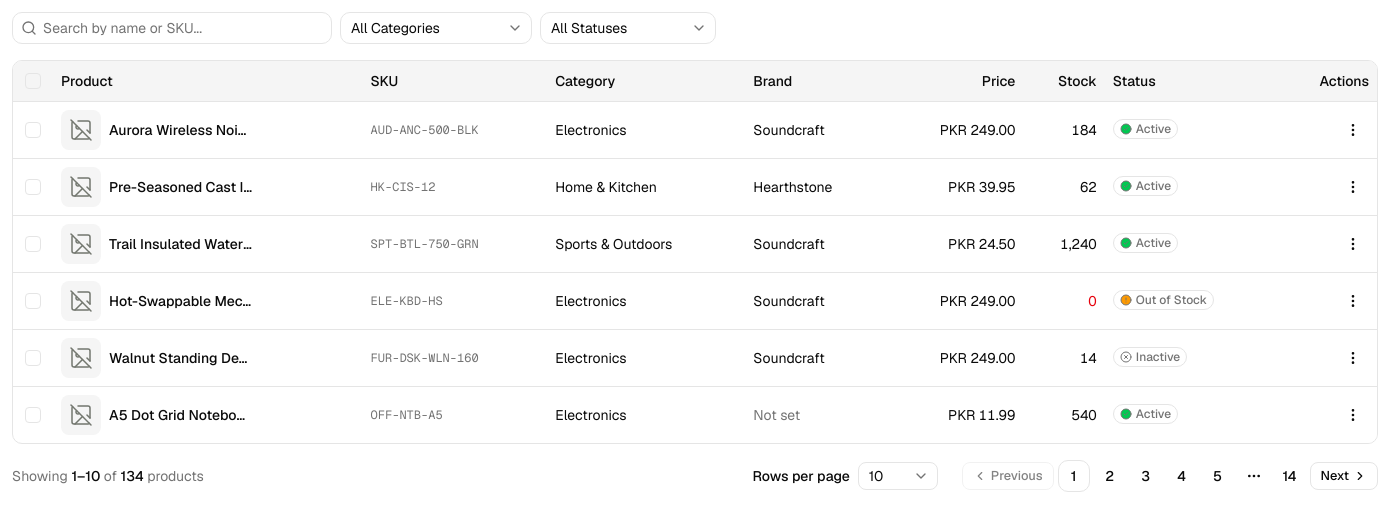
ProductsList search and filters › offers the categories the API returns and filters by the one chosen
The width and height of the screenshot is (1390, 509).
Expected: the text "Aurora Wireless Noise-Cancelling Headphones" is shown, [109, 120, 253, 140]
Click the dropdown named "Filter by category" at (436, 28), box [340, 12, 532, 44]
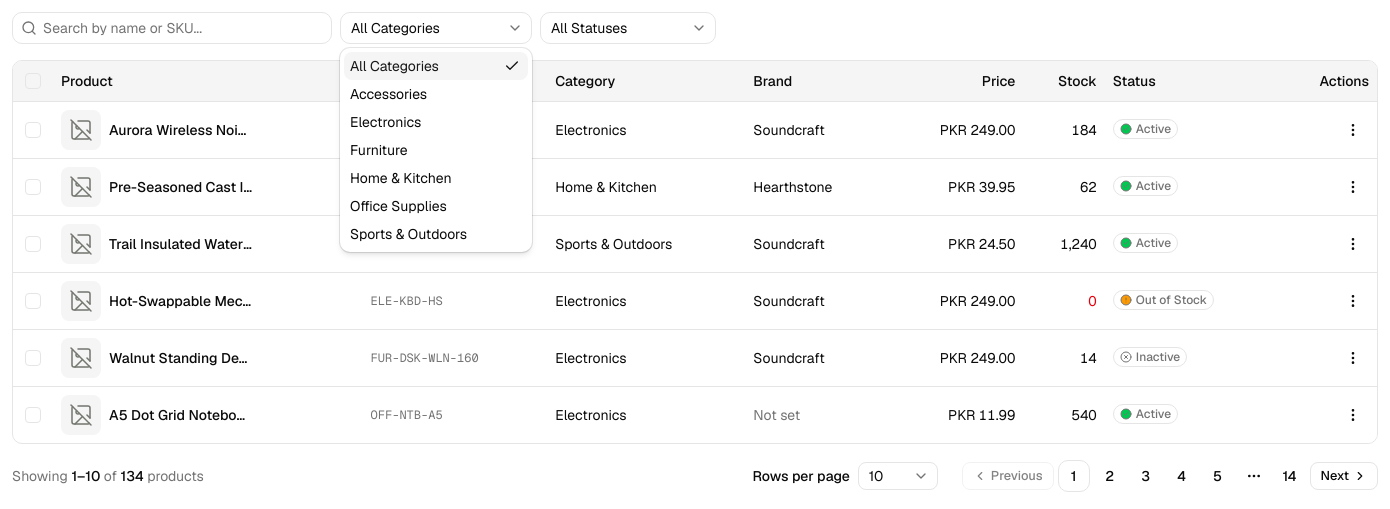
Result: the option "Accessories" is shown at [350, 85, 427, 103]
Result: the option "Electronics" is shown at [350, 113, 421, 131]
Result: the option "Furniture" is shown
Click the option "Furniture" at (379, 150), box [350, 141, 408, 159]
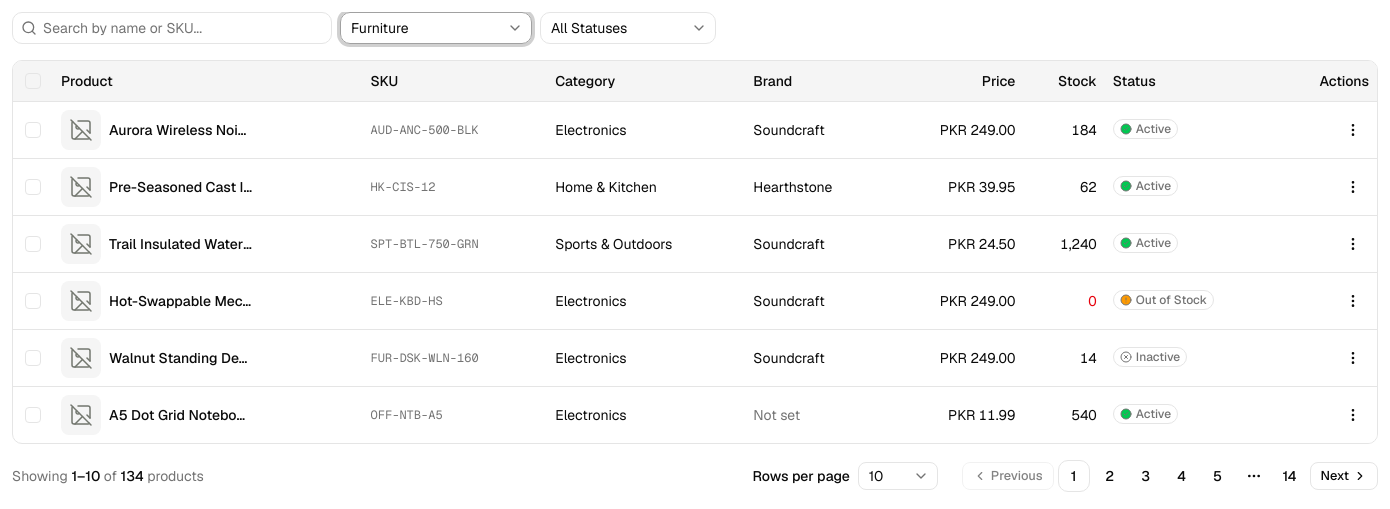
Result: the dropdown named "Filter by category" shows "Furniture" at [340, 12, 532, 44]
